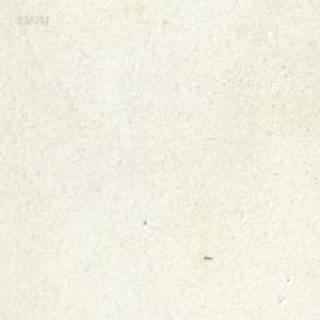Nailtrack_idkeyframe: (203, 253, 212, 259)
